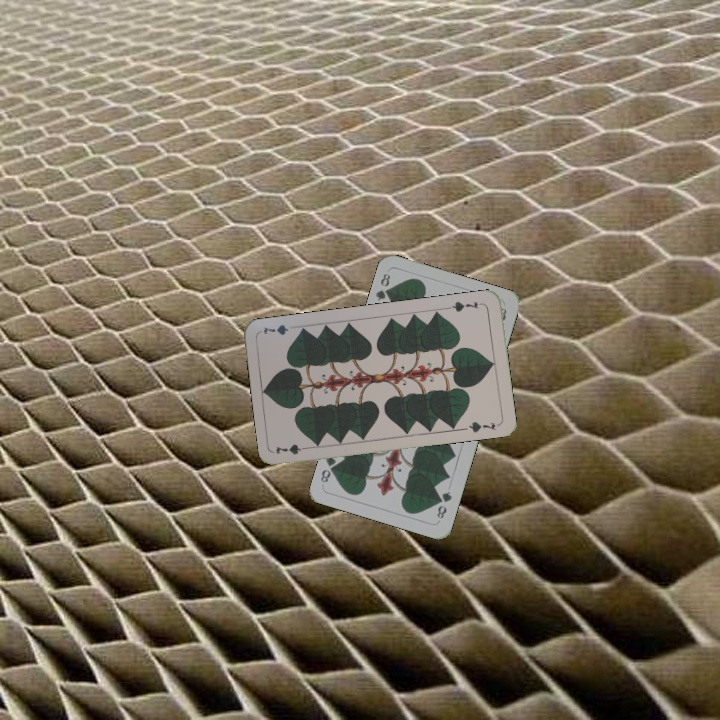G7: (272, 440, 313, 457), (445, 297, 485, 314)
G8: (372, 269, 395, 303), (433, 487, 454, 522)
